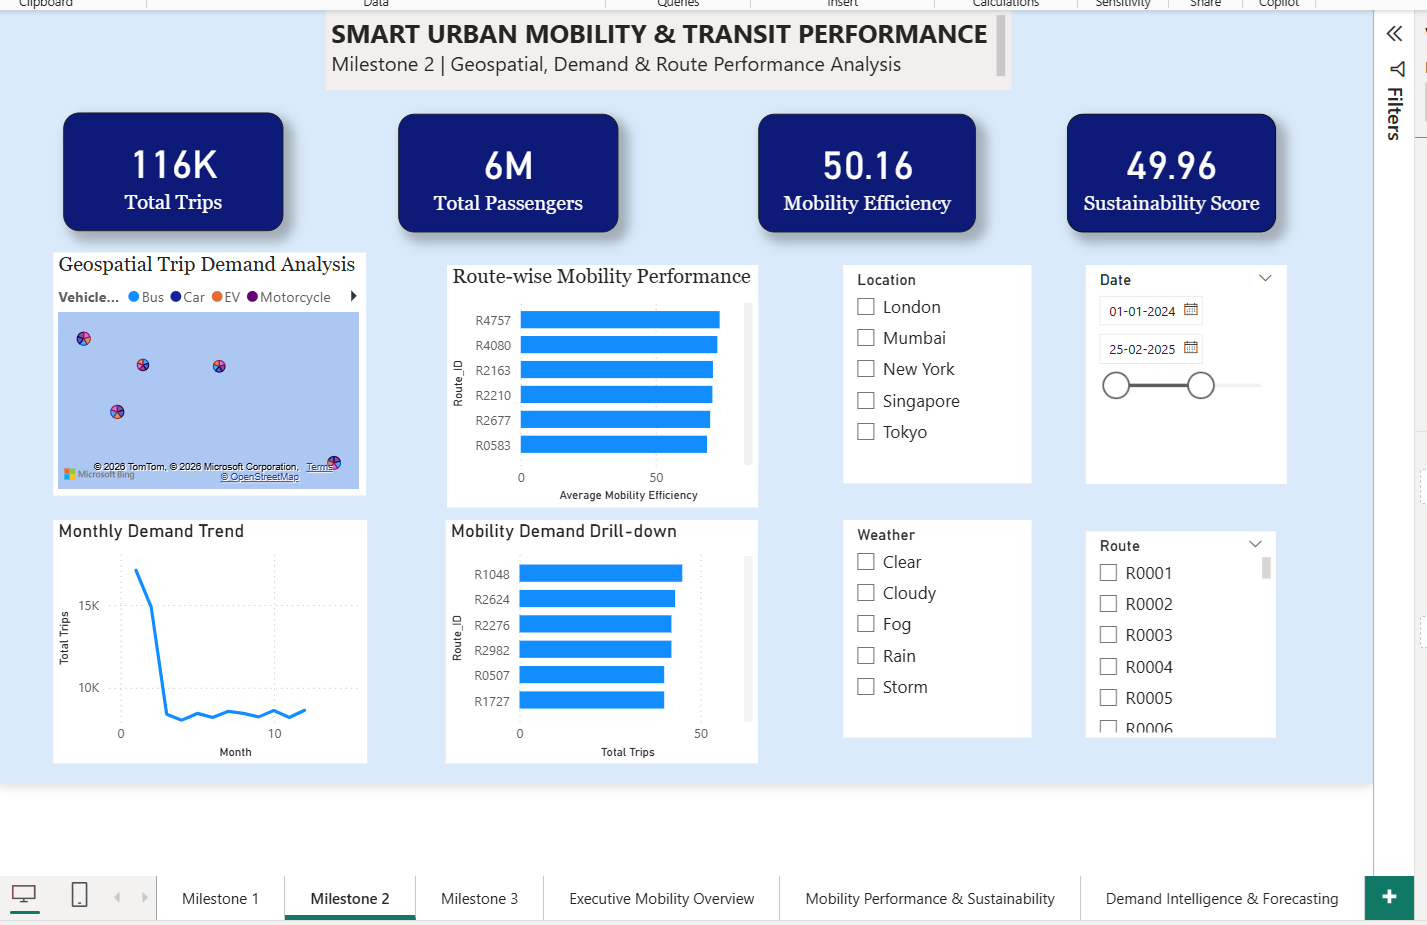

The page's visual inventory and layout, read from the dashboard file:
{"tool":"powerbi","page":{"name":"Milestone 2","canvas":[1280,720],"ordinal":1},"visuals":[{"type":"textbox","box":[305.8,0,637.2,74.4],"z":0},{"type":"card","fields":{"Values":["Fact_Mobility.Total Trips"]},"box":[61.6,95.3,204.7,110.5],"z":1000},{"type":"card","title":"Total Passengers","fields":{"Values":["Sum(Fact_Mobility.Passenger_Count)"]},"box":[373.3,96.5,204.7,110.5],"z":2000},{"type":"card","fields":{"Values":["Avg(Fact_Mobility.Sustainability_Score)"]},"box":[995.4,96.5,194.2,110.5],"z":3000},{"type":"card","fields":{"Values":["Fact_Mobility.Average Mobility Efficiency"]},"box":[708.1,96.5,202.3,110.5],"z":4000},{"type":"map","title":"Geospatial Trip Demand Analysis","fields":{"Category":["Dim_Location.City"],"Series":["Dim_Vehicle.Vehicle_Type"],"Y":["Avg(Dim_Location.Latitude)"],"X":["Avg(Dim_Location.Longitude)"],"Size":["Fact_Mobility.Total Trips"]},"box":[52.3,225.6,290,225.6],"z":5000},{"type":"lineChart","title":"Monthly Demand Trend","fields":{"Category":["Fact_Mobility.Month"],"Y":["Fact_Mobility.Total Trips"]},"box":[52.3,474.4,291.9,226.7],"z":6000},{"type":"clusteredBarChart","title":"Route-wise Mobility Performance","fields":{"Category":["Fact_Mobility.Route_ID"],"Y":["Fact_Mobility.Average Mobility Efficiency"]},"box":[418.6,237.2,289.5,225.6],"z":7000},{"type":"clusteredBarChart","title":"Mobility Demand Drill-down","fields":{"Category":["Dim_Location.City","Dim_Route.Route_ID","Dim_Vehicle.Vehicle_Type"],"Y":["Fact_Mobility.Total Trips"]},"box":[417.4,474.4,290.7,226.7],"z":8000},{"type":"slicer","fields":{"Values":["Dim_Location.City"]},"box":[787.2,237.2,175.6,203.5],"z":9000},{"type":"slicer","fields":{"Values":["Fact_Mobility.Weather_Condition"]},"box":[787.2,474.4,175.6,202.3],"z":10000},{"type":"slicer","fields":{"Values":["Fact_Mobility.Trip_Date"]},"box":[1012.8,237.2,186,203.5],"z":11000},{"type":"slicer","fields":{"Values":["Fact_Mobility.Route_ID"]},"box":[1012.8,484.9,176.7,191.9],"z":12000}]}

Visuals, with their boxes on the page's 1280x720 design canvas (x1, y1, x2, y2). These are canvas units, not pixel positions in the 1427x925 screenshot, which may show the page scaled, cropped or inside an application window:
textbox: bbox=(306, 0, 943, 74)
card - Fact_Mobility.Total Trips: bbox=(62, 95, 266, 206)
"Total Passengers" card: bbox=(373, 96, 578, 207)
card - Avg(Fact_Mobility.Sustainability_Score): bbox=(995, 96, 1190, 207)
card - Fact_Mobility.Average Mobility Efficiency: bbox=(708, 96, 910, 207)
"Geospatial Trip Demand Analysis" map: bbox=(52, 226, 342, 451)
"Monthly Demand Trend" lineChart: bbox=(52, 474, 344, 701)
"Route-wise Mobility Performance" clusteredBarChart: bbox=(419, 237, 708, 463)
"Mobility Demand Drill-down" clusteredBarChart: bbox=(417, 474, 708, 701)
slicer - Dim_Location.City: bbox=(787, 237, 963, 441)
slicer - Fact_Mobility.Weather_Condition: bbox=(787, 474, 963, 677)
slicer - Fact_Mobility.Trip_Date: bbox=(1013, 237, 1199, 441)
slicer - Fact_Mobility.Route_ID: bbox=(1013, 485, 1190, 677)
